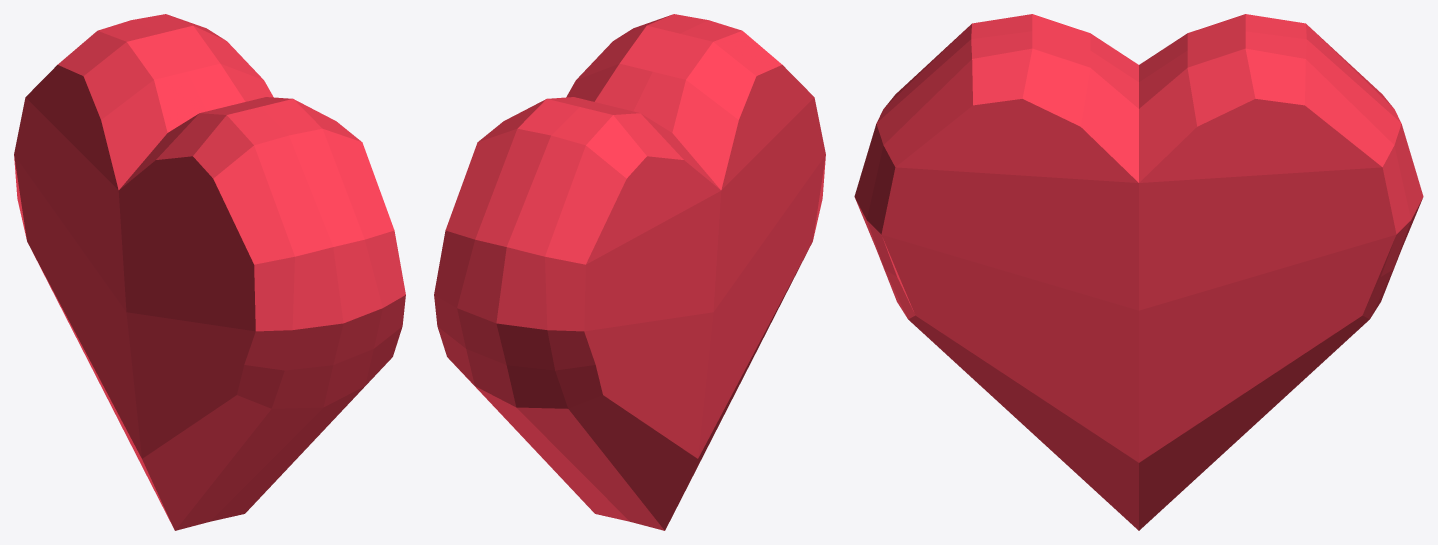
The model's file is Heart.fbx.
3 views of the same model, side by side, from view 1: azimuth 30°, elevation 25°; view 2: azimuth 150°, elevation 25°; view 3: azimuth 270°, elevation 25° (orthographic). The views are drawn at different scales.
Parts seen in each view (by area): view 1: Cube; view 2: Cube; view 3: Cube.
Boxes of the visible parts, x1,y1,x2,y2 form: Cube: (14,14,405,530); Cube: (434,14,825,530); Cube: (854,14,1423,530).
Bounding box in the file's own units: 134 × 317 × 340.
1 material, 1 textured.
